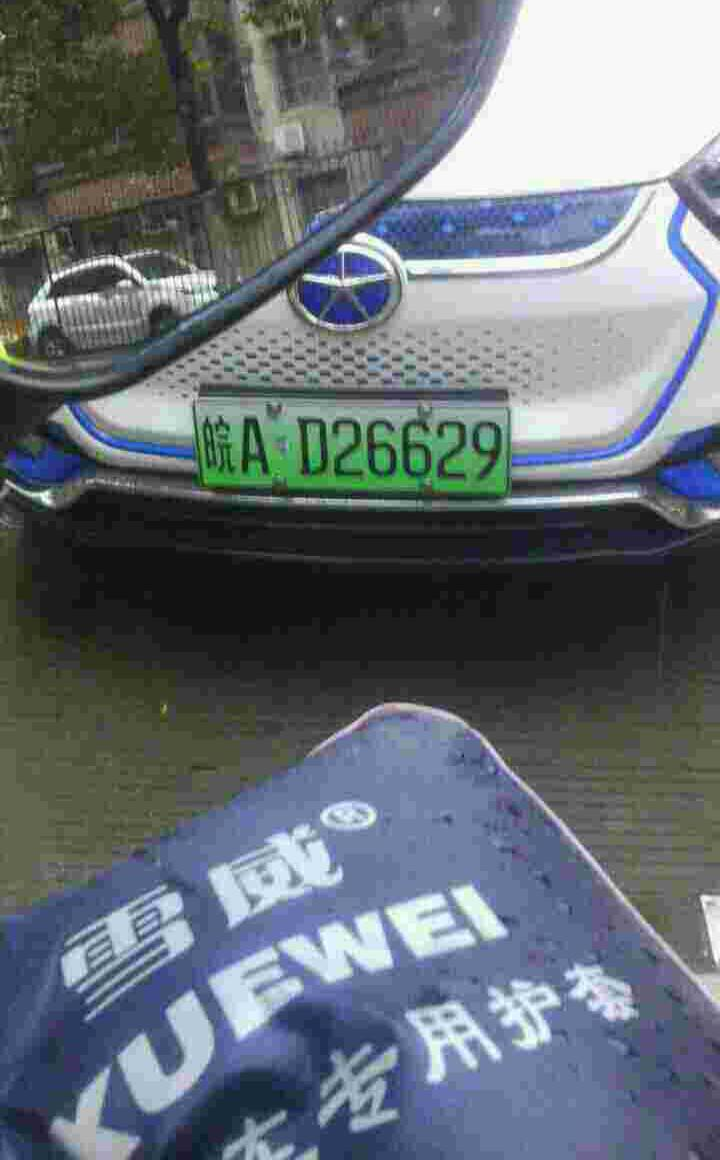car_id: (193, 402, 508, 496)
